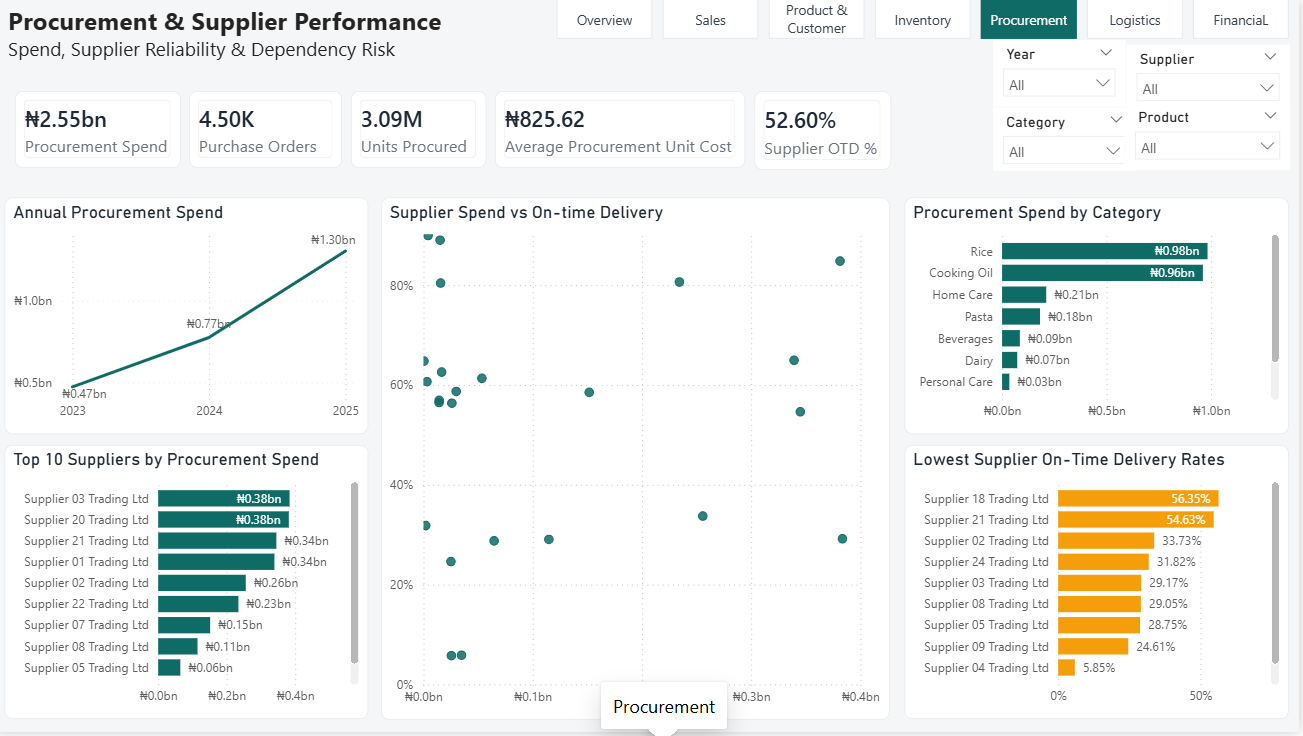

Layout of this report page (visuals, bound fields, positions):
{"tool":"powerbi","page":{"name":"Procurement ","canvas":[1280,720],"ordinal":4},"visuals":[{"type":"textbox","box":[9.4,0,436.1,75],"z":0},{"type":"slicer","fields":{"Values":["categories.CategoryName"]},"box":[980,106.7,140,61.7],"z":1000},{"type":"slicer","fields":{"Values":["Date.Year"]},"box":[980,41.7,130,65],"z":2000},{"type":"slicer","fields":{"Values":["suppliers.SupplierName"]},"box":[1110,45,160,61.7],"z":3000},{"type":"cardVisual","fields":{"Data":["Measures_Table.Procurement Spend"]},"box":[20.3,90.7,162.6,75],"z":4000},{"type":"cardVisual","fields":{"Data":["Measures_Table.Purchase Orders"]},"box":[191.5,90.7,150,75],"z":5000},{"type":"cardVisual","fields":{"Data":["Measures_Table.Units Procured"]},"box":[350.2,90.7,132.5,75],"z":6000},{"type":"cardVisual","fields":{"Data":["Measures_Table.Average Procurement Unit Cost"]},"box":[491.3,90.7,245,75],"z":7000},{"type":"cardVisual","fields":{"Data":["Measures_Table.Supplier OTD %"]},"box":[745,90.7,133.8,77.5],"z":8000},{"type":"lineChart","title":"Annual Procurement Spend","fields":{"Y":["Measures_Table.Procurement Spend"],"Category":["Date.Year"]},"box":[10,195,356.7,231.7],"z":9000},{"type":"clusteredBarChart","title":"Top 10 Suppliers by Procurement Spend","fields":{"Category":["suppliers.SupplierName"],"Y":["Measures_Table.Procurement Spend"]},"box":[10,438.3,356.7,268.3],"z":10000},{"type":"scatterChart","title":"Supplier Spend vs On-time Delivery","fields":{"Y":["Measures_Table.Supplier OTD %"],"X":["Measures_Table.Procurement Spend"],"Category":["suppliers.SupplierName"]},"box":[380,195,498.3,511.7],"z":11000},{"type":"clusteredBarChart","title":"Procurement Spend by Category","fields":{"Category":["categories.CategoryName"],"Y":["Measures_Table.Procurement Spend"]},"box":[893.3,195,376.7,231.7],"z":12000},{"type":"clusteredBarChart","title":"Lowest Supplier On-Time Delivery Rates","fields":{"Category":["suppliers.SupplierName"],"Y":["Measures_Table.Supplier OTD %"]},"box":[893.3,438.3,376.7,268.3],"z":13000},{"type":"slicer","fields":{"Values":["products.ProductName"]},"box":[1108.3,103.3,161.7,65],"z":14000},{"type":"pageNavigator","box":[551.7,0,718.3,40],"z":15000}]}

Visuals, with their boxes in screenshot pixels (x1, y1, x2, y2), scaled from the page's 1280x720 canvas onto the 1303x736 screenshot:
textbox: rect(10, 0, 454, 77)
slicer - categories.CategoryName: rect(998, 109, 1140, 172)
slicer - Date.Year: rect(998, 43, 1130, 109)
slicer - suppliers.SupplierName: rect(1130, 46, 1293, 109)
cardVisual - Measures_Table.Procurement Spend: rect(21, 93, 186, 169)
cardVisual - Measures_Table.Purchase Orders: rect(195, 93, 348, 169)
cardVisual - Measures_Table.Units Procured: rect(356, 93, 491, 169)
cardVisual - Measures_Table.Average Procurement Unit Cost: rect(500, 93, 750, 169)
cardVisual - Measures_Table.Supplier OTD %: rect(758, 93, 895, 172)
"Annual Procurement Spend" lineChart: rect(10, 199, 373, 436)
"Top 10 Suppliers by Procurement Spend" clusteredBarChart: rect(10, 448, 373, 722)
"Supplier Spend vs On-time Delivery" scatterChart: rect(387, 199, 894, 722)
"Procurement Spend by Category" clusteredBarChart: rect(909, 199, 1293, 436)
"Lowest Supplier On-Time Delivery Rates" clusteredBarChart: rect(909, 448, 1293, 722)
slicer - products.ProductName: rect(1128, 106, 1293, 172)
pageNavigator: rect(562, 0, 1293, 41)
